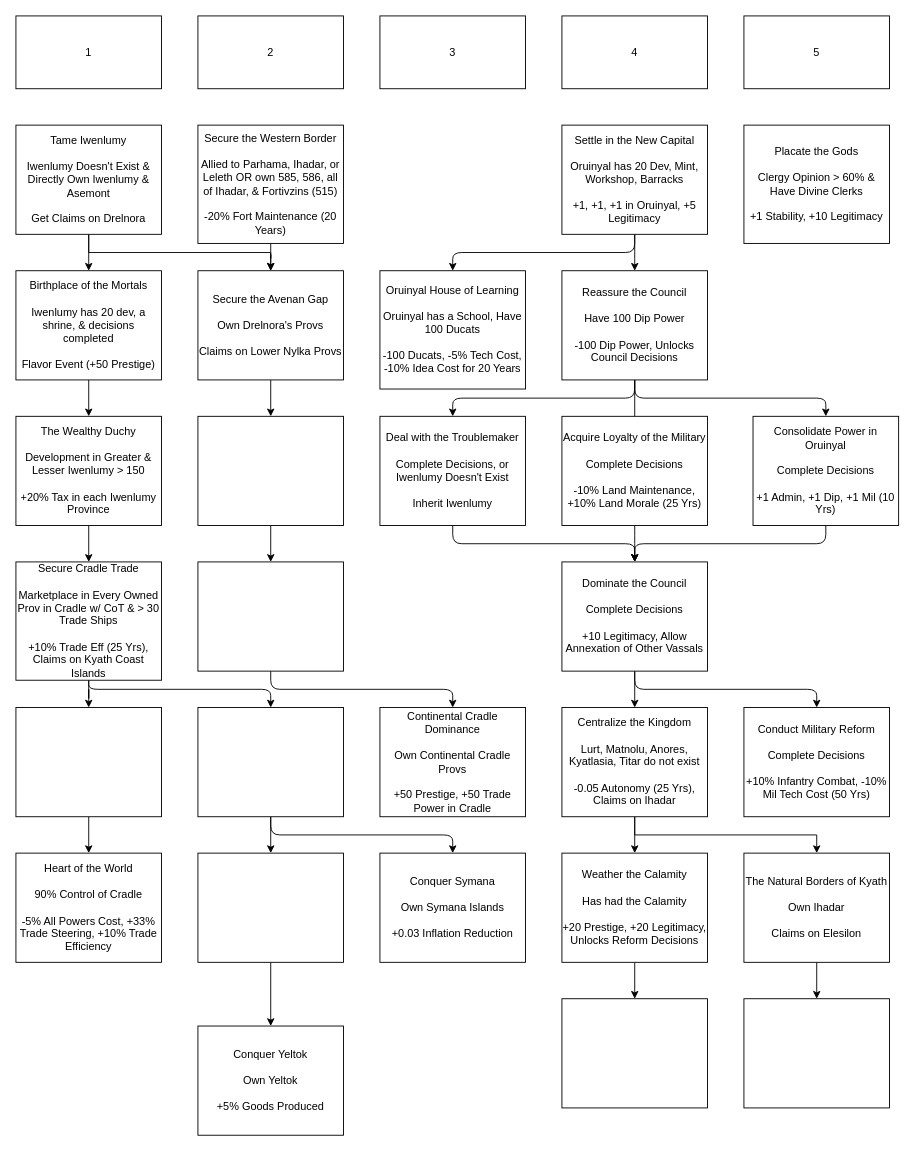
This 915x1151 diagram has some shape labels left out. Here are the shapes that lost their labels. From the top down, the centre of each, then its label:
At (270,470): "Secure the Lower Nykla Own Lower Nylka Claims on Shemsele Area".
At (270,616): "Break Shemsele Own Shemsele Area Claims on Ilfemenat & Mythenaset".
At (88,762): "Monopolize the Cradle 50% Control of Cradle +10% Trade Eff".
At (270,762): "Acquire the Coastal Isles Own Kyath Coast Islands Claims on Symana, Ulsin".
At (270,907): "Conquer Ulsin Own Ulsin +10% Governing Cap, Claims on Yeltok".
At (634,1053): "Reform the Council Complete Decisions Switch to Feudal Government, New Missions".
At (816,1053): "The City of the World's Desire Own Yhenil +10% Trade Eff".
